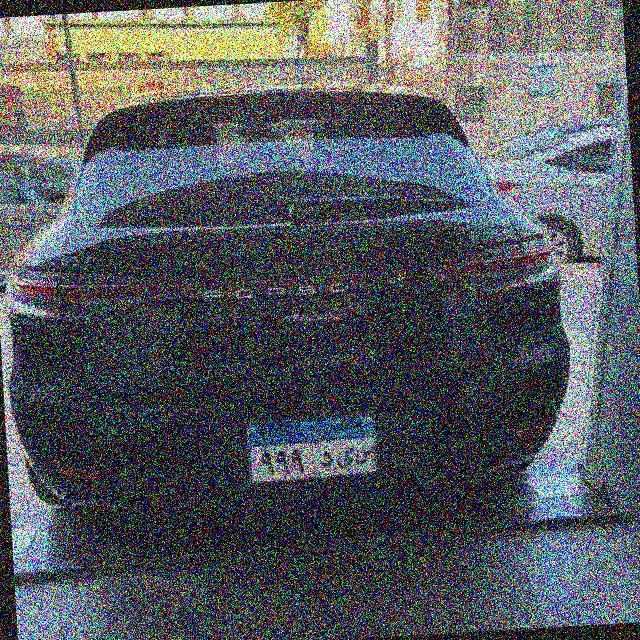License Plate: (246, 411, 382, 485)
